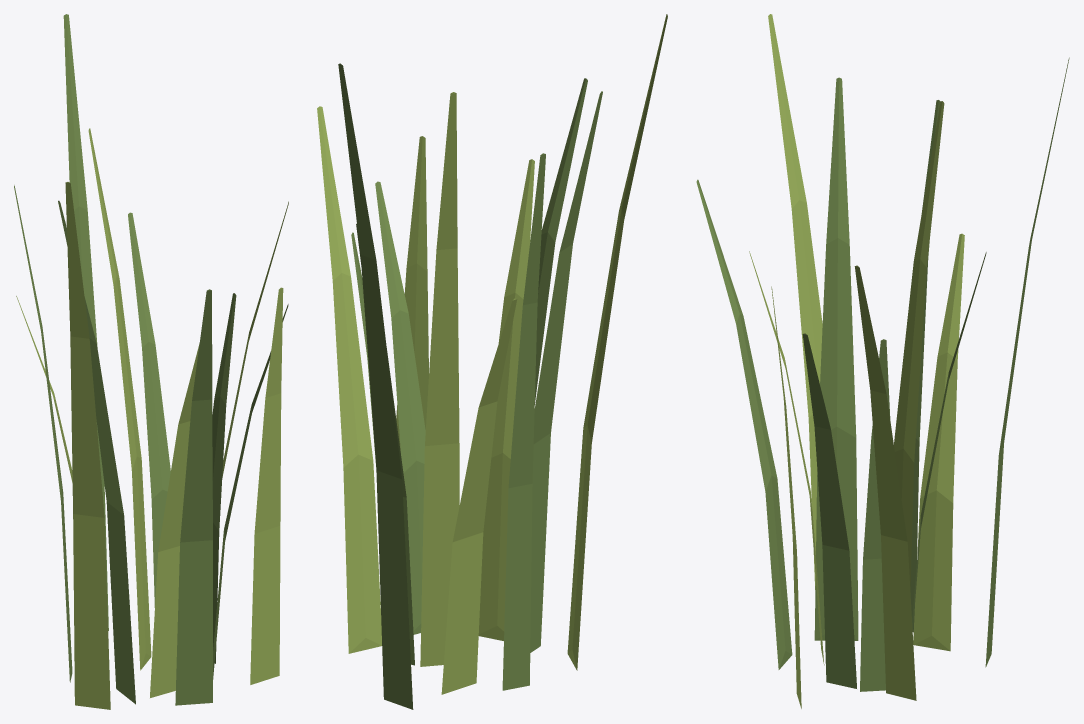
File: sedge_a.glb
3 renders of one model, left to right at view 1: azimuth 30°, elevation 25°; view 2: azimuth 150°, elevation 25°; view 3: azimuth 270°, elevation 25°, orthographic. The views are drawn at different scales.
Visible parts, largest first — view 1: SedgeA; view 2: SedgeA; view 3: SedgeA.
Boxes of the visible parts, x1,y1,x2,y2 form: SedgeA: (14,14,288,709); SedgeA: (317,14,667,709); SedgeA: (696,14,1069,708).
Size of the model in its own units: 0.3332 by 0.7047 by 0.3909.
